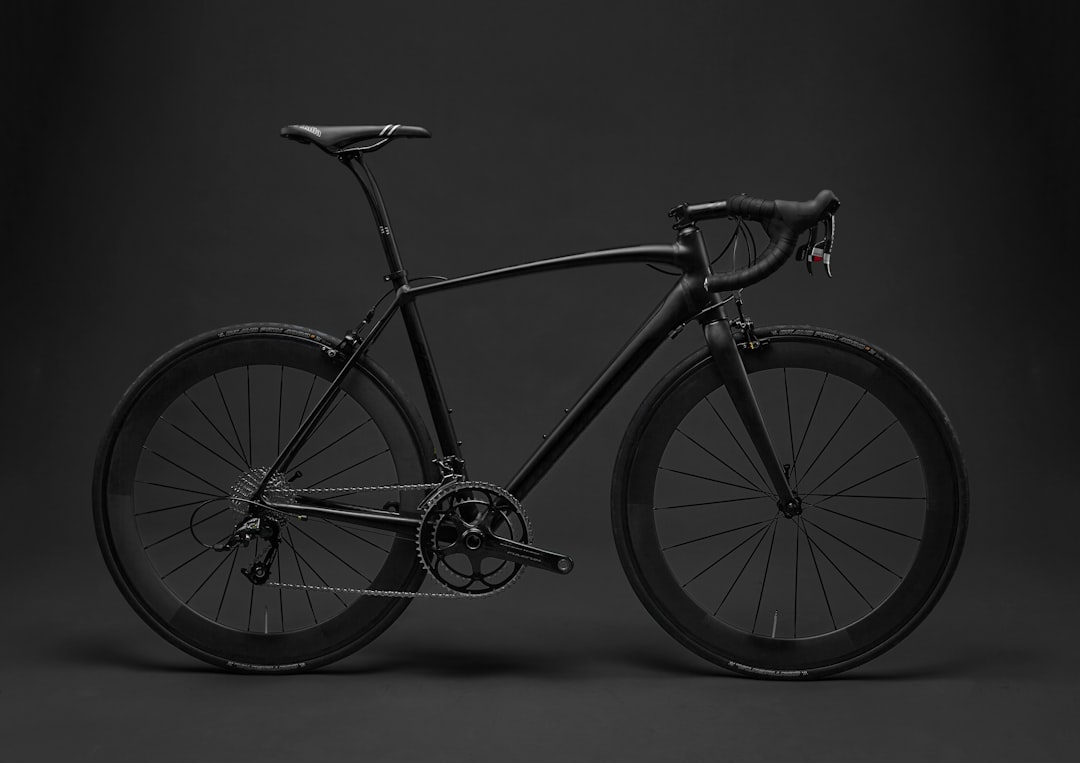bicycle: (86, 124, 977, 678)
